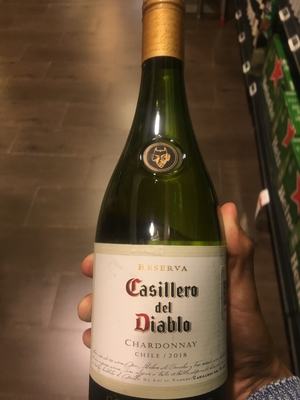casillero del diablo chardonnay: (78, 7, 242, 400)
